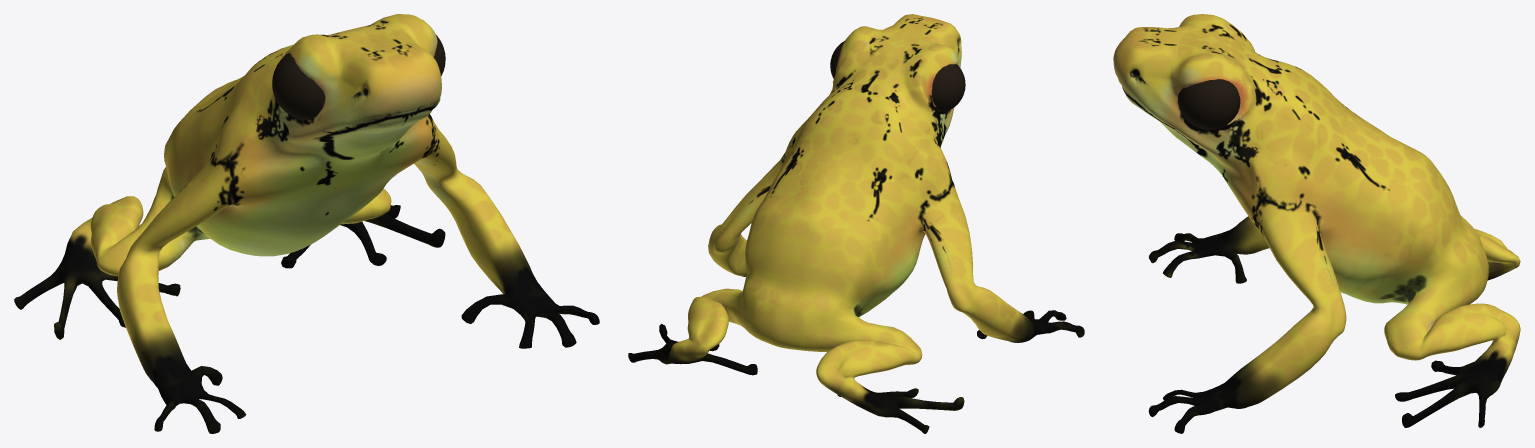
The model's file is frog_27bb543b.glb.
3 views of the same model, side by side, from view 1: azimuth 30°, elevation 25°; view 2: azimuth 150°, elevation 25°; view 3: azimuth 270°, elevation 25° (orthographic). The views are drawn at different scales.
Visible parts, largest first — view 1: 1_Default Material_0, Sphere002; view 2: 1_Default Material_0, Sphere002; view 3: 1_Default Material_0, Sphere001.
Boxes of the visible parts, box(x1,y1,x2,y2) form: 1_Default Material_0: box(14, 14, 599, 433); Sphere002: box(272, 53, 325, 119); 1_Default Material_0: box(628, 14, 1084, 433); Sphere002: box(931, 64, 965, 111); 1_Default Material_0: box(1113, 14, 1520, 433); Sphere001: box(1178, 79, 1240, 129).
Size of the model in its own units: 1056 by 793 by 944.
Materials: 3 (1 with a texture image).
